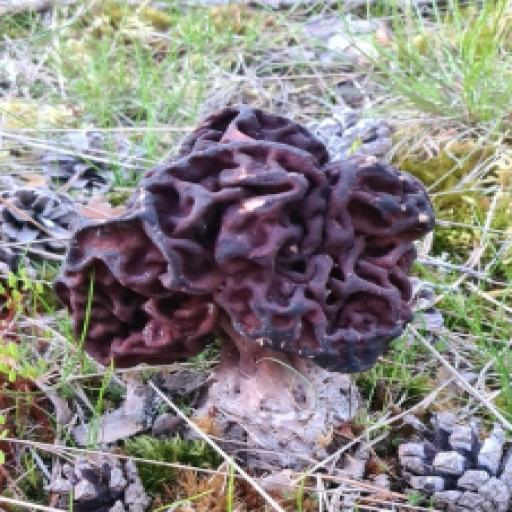mushroom: (23, 42, 475, 490)
